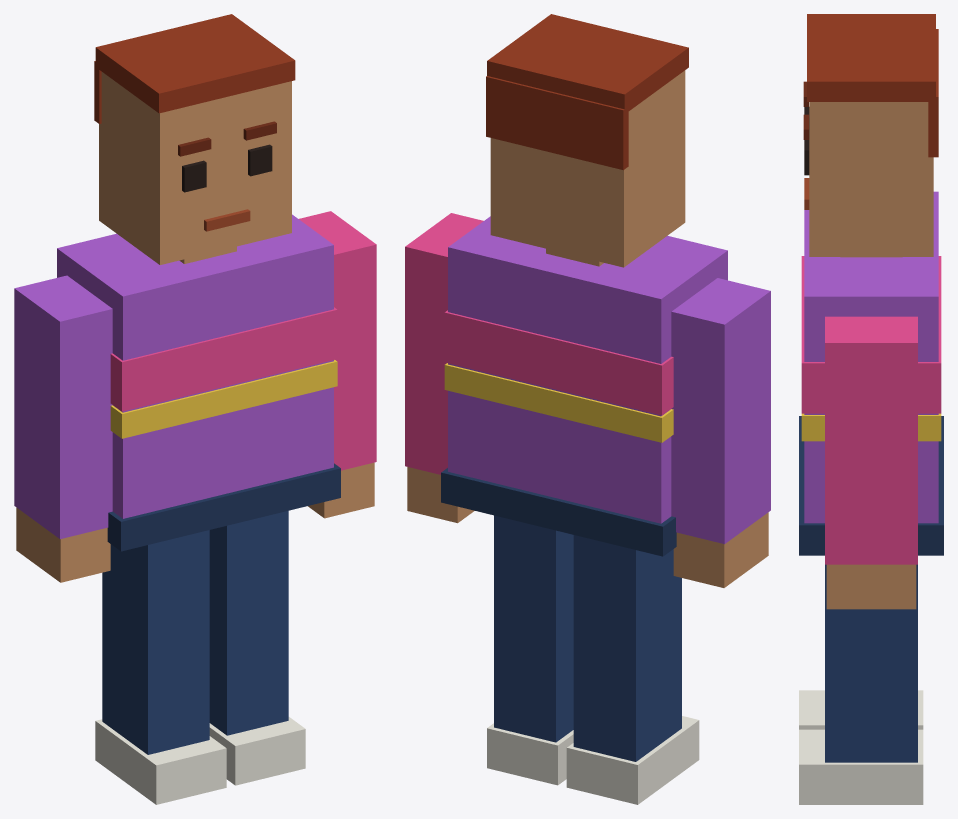
File: high_class_student_2.glb
The picture shows the model from 3 angles, left to right: view 1: azimuth 30°, elevation 25°; view 2: azimuth 150°, elevation 25°; view 3: azimuth 270°, elevation 25°; orthographic projection.
Visible parts, largest first — view 1: Box9, Box14, Box7, Box5, Box1, Box20, Box10, Box3, Box12, Box6, Box11, Box2 (+4 smaller); view 2: Box9, Box7, Box14, Box5, Box1, Box20, Box10, Box3, Box21, Box12, Box11, Box6 (+3 smaller); view 3: Box3, Box14, Box1, Box9, Box20, Box2, Box4, Box10, Box12, Box11, Box6, Box21.
Part boxes in pixels (box(x1,y1,x2,y2)): Box9: box(57, 214, 333, 518); Box14: box(99, 72, 291, 264); Box7: box(14, 275, 112, 538); Box5: box(102, 530, 209, 754); Box1: box(209, 510, 288, 735); Box20: box(95, 14, 295, 113); Box10: box(110, 307, 337, 411); Box3: box(299, 211, 376, 470); Box12: box(107, 463, 340, 551); Box6: box(95, 719, 226, 804); Box11: box(110, 360, 337, 438); Box2: box(209, 717, 305, 785); Box9: box(448, 216, 727, 523); Box7: box(671, 278, 770, 544); Box14: box(490, 70, 685, 267); Box5: box(573, 535, 681, 761); Box1: box(494, 515, 573, 742); Box20: box(487, 14, 688, 113); Box10: box(444, 310, 673, 415); Box3: box(405, 213, 483, 474); Box21: box(486, 76, 628, 170); Box12: box(441, 468, 676, 556); Box11: box(444, 363, 673, 442); Box6: box(566, 716, 699, 804); Box3: box(825, 316, 917, 564); Box14: box(809, 102, 933, 256); Box1: box(825, 564, 917, 762); Box9: box(804, 191, 938, 523); Box20: box(807, 14, 935, 101); Box2: box(799, 729, 923, 804); Box4: box(826, 564, 916, 609); Box10: box(801, 256, 941, 413); Box12: box(799, 416, 943, 555); Box11: box(801, 413, 941, 441); Box6: box(799, 690, 923, 729); Box21: box(928, 29, 938, 157).
Bounding box in the file's own units: 0.8165 × 1.74 × 0.3175.
